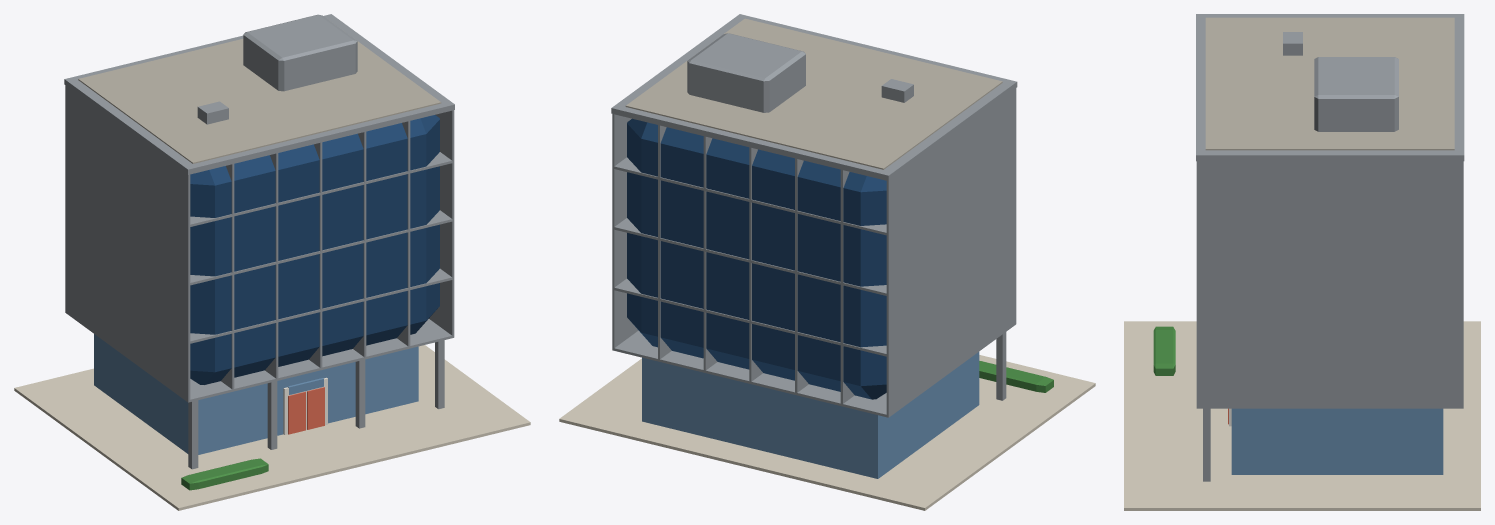
Rendered from office_f5_ribbon_w18.glb.
3 views of the same model, side by side, from view 1: azimuth 30°, elevation 25°; view 2: azimuth 150°, elevation 25°; view 3: azimuth 270°, elevation 25° (orthographic). The views are drawn at different scales.
Parts seen in each view (by area): view 1: slab, mullv, plaza, roofslab, lobby, penthouse, roofband, mullh, mullv.006, planter, mullh.003, mullh.002 (+13 smaller); view 2: slab, mullv, roofslab, lobby, plaza, roofband, penthouse, mullh, mullv.006, mullh.003, mullh.001, mullh.002 (+8 smaller); view 3: mullv.006, plaza, roofslab, lobby, roofband, penthouse, planter, piloti.003, hvac.
Part boxes in pixels (x1,y1,x2,y2): slab: [190, 115, 439, 384]; mullv: [65, 85, 190, 402]; plaza: [14, 345, 530, 510]; roofslab: [78, 39, 441, 163]; lobby: [94, 334, 418, 454]; penthouse: [243, 14, 357, 91]; roofband: [64, 14, 454, 174]; mullh: [189, 319, 454, 401]; mullv.006: [429, 110, 454, 335]; planter: [181, 458, 268, 490]; mullh.003: [188, 152, 454, 227]; mullh.002: [188, 210, 454, 285]; slab: [627, 118, 886, 399]; mullv: [886, 88, 1016, 417]; roofslab: [625, 18, 1002, 169]; lobby: [642, 352, 979, 478]; plaza: [559, 355, 1095, 510]; roofband: [611, 14, 1017, 181]; penthouse: [687, 33, 805, 112]; mullh: [614, 330, 888, 417]; mullv.006: [612, 114, 638, 350]; mullh.003: [612, 157, 888, 235]; mullh.001: [613, 278, 888, 356]; mullh.002: [614, 218, 888, 296]; mullv.006: [1196, 154, 1463, 408]; plaza: [1124, 321, 1480, 510]; roofslab: [1205, 17, 1454, 150]; lobby: [1231, 408, 1443, 474]; roofband: [1196, 14, 1464, 161]; penthouse: [1314, 57, 1398, 131]; planter: [1153, 326, 1175, 375]; piloti.003: [1203, 408, 1210, 481]; hvac: [1283, 32, 1302, 55].
Size of the model in its own units: 24 by 22.18 by 19.4.
